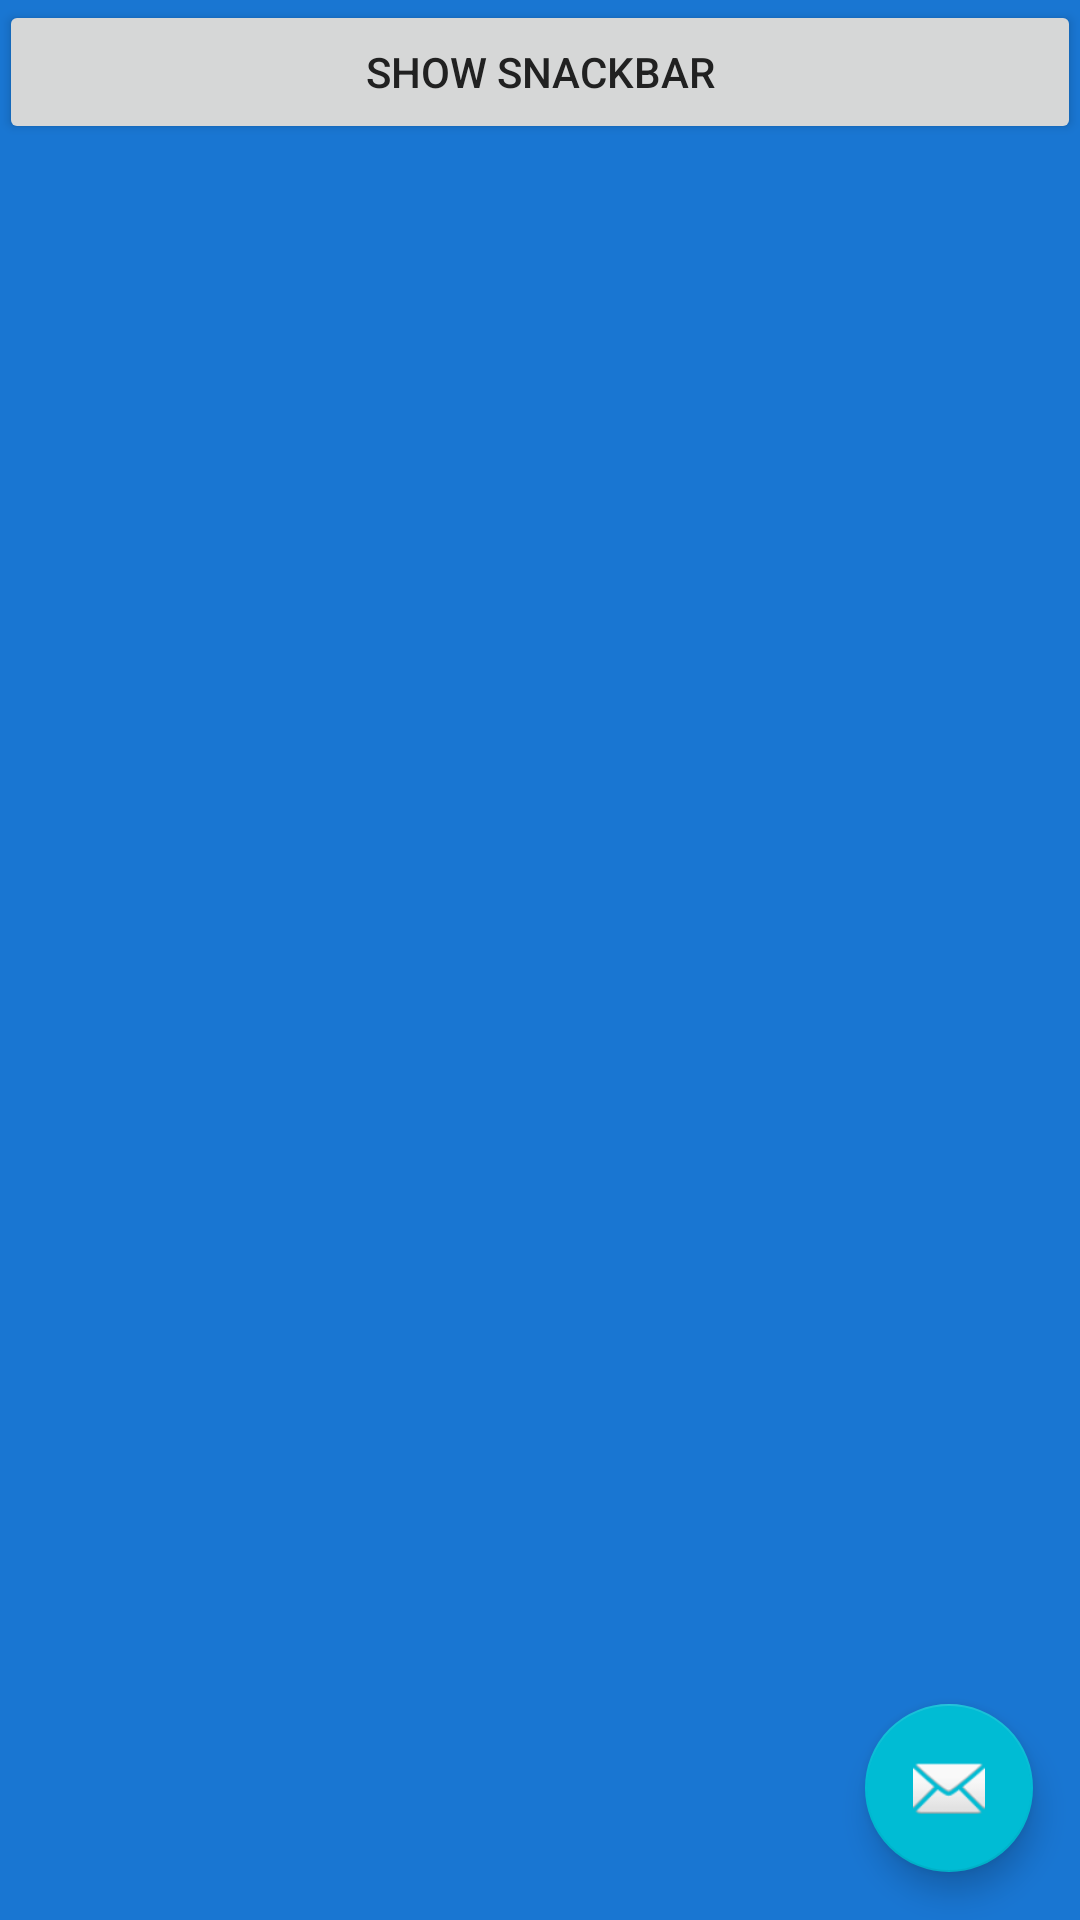

Point at icon controls on the screen. Image size 1080×1920, points as (x=x, y=y).
email: (x=949, y=1788)
